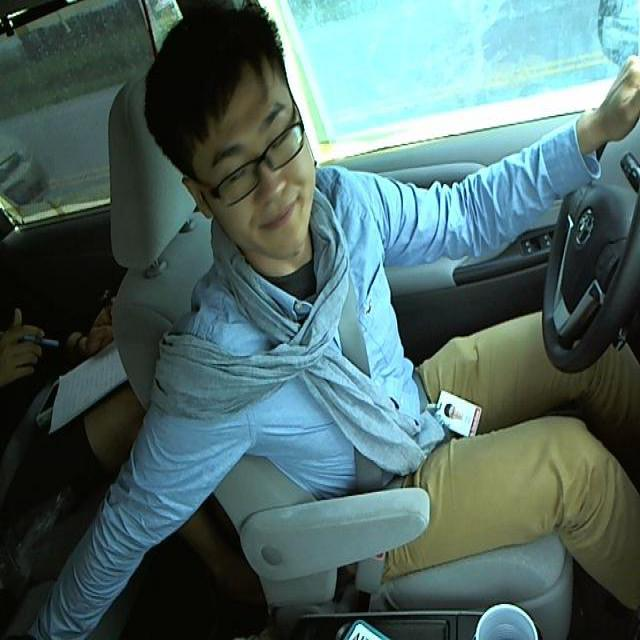seatbelt: (321, 252, 430, 513)
